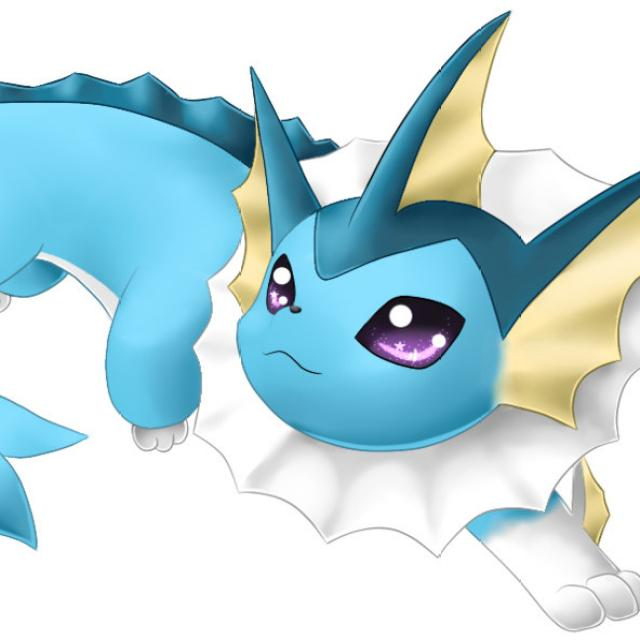Vaporeon: (70, 17, 612, 541)
